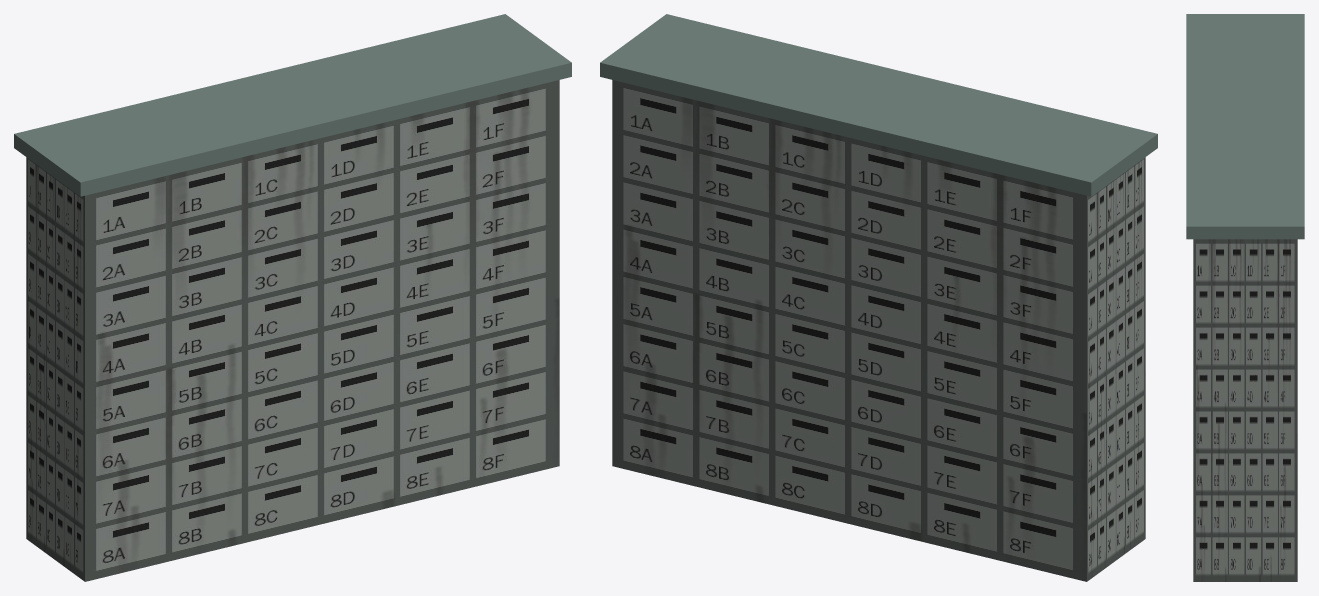
Rendered from letterboxes.glb.
3 renders of one model, left to right at view 1: azimuth 30°, elevation 25°; view 2: azimuth 150°, elevation 25°; view 3: azimuth 270°, elevation 25°, orthographic. The views are drawn at different scales.
Parts seen in each view (by area): view 1: letterboxes; view 2: letterboxes; view 3: letterboxes.
Boxes of the visible parts, x1,y1,x2,y2 form: letterboxes: [14, 14, 571, 581]; letterboxes: [600, 14, 1157, 581]; letterboxes: [1186, 14, 1304, 581].
Bounding box in the file's own units: 1.45 × 1.14 × 0.34.
Materials: 2 (1 with a texture image).
